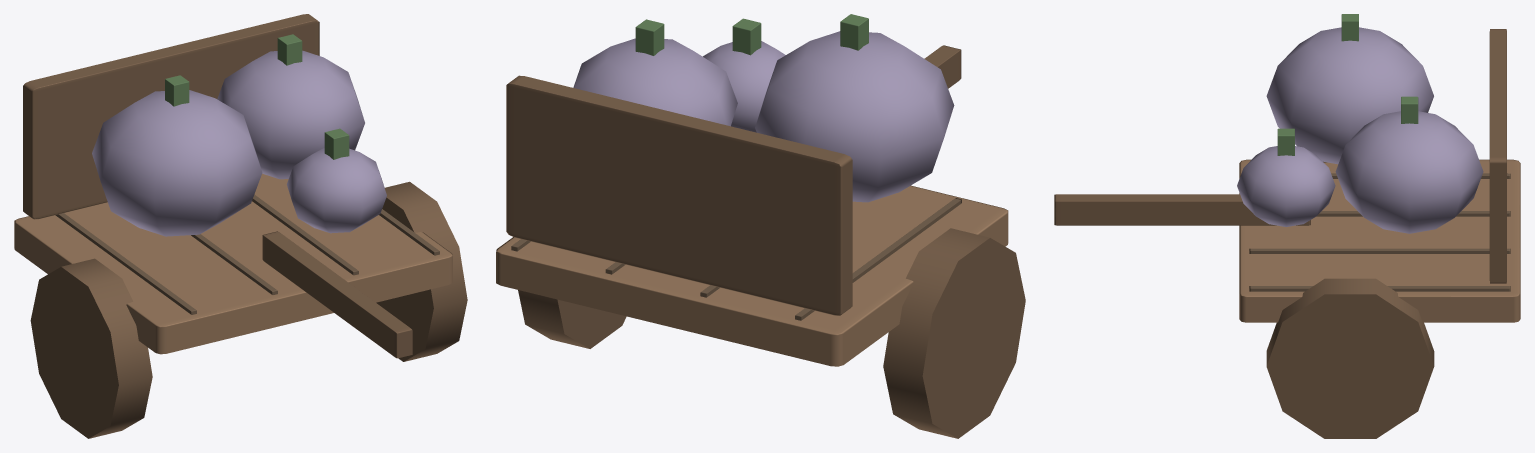
File: autumncart-2.glb
3 views of the same model, side by side, from view 1: azimuth 30°, elevation 25°; view 2: azimuth 150°, elevation 25°; view 3: azimuth 270°, elevation 25° (orthographic). The views are drawn at different scales.
Visible parts, largest first — view 1: autumncart-2-0; view 2: autumncart-2-0; view 3: autumncart-2-0.
Boxes of the visible parts, bbox=[...] form: autumncart-2-0: bbox=[14, 14, 467, 438]; autumncart-2-0: bbox=[496, 14, 1025, 438]; autumncart-2-0: bbox=[1054, 14, 1520, 438].
Bounding box in the file's own units: 0.775 × 0.6877 × 0.945.
